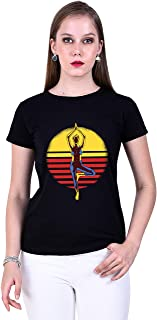tshirt: (1, 84, 151, 255)
